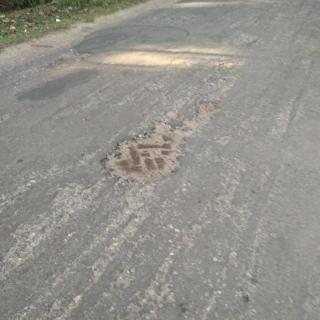pothole: (101, 100, 220, 185)
